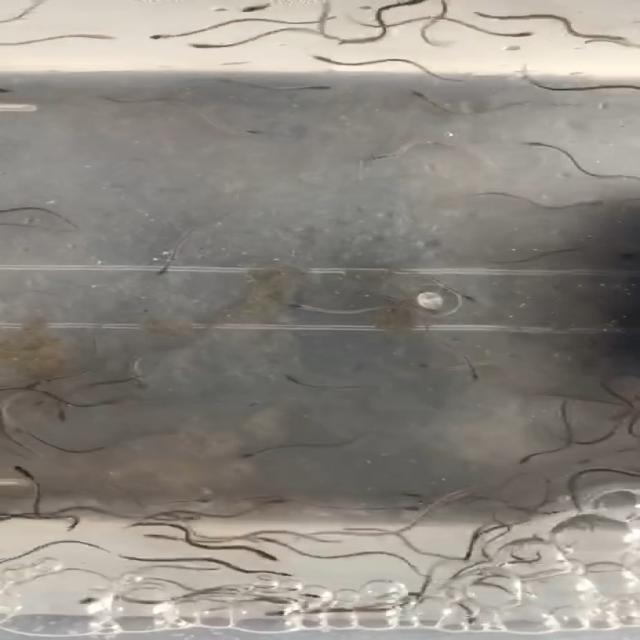active_glass_eel: (68, 27, 119, 46), (184, 38, 244, 53), (434, 484, 478, 502), (142, 26, 193, 41), (73, 590, 118, 606), (277, 585, 325, 600), (251, 593, 306, 606), (231, 2, 284, 15), (592, 192, 630, 209), (592, 29, 637, 43), (510, 448, 540, 469), (512, 139, 558, 152), (230, 449, 276, 462), (125, 373, 153, 394), (392, 488, 437, 501), (13, 466, 42, 486), (454, 606, 479, 629), (379, 502, 420, 516), (150, 259, 178, 279), (451, 290, 486, 306), (363, 152, 405, 165), (176, 494, 215, 508), (466, 364, 494, 383), (409, 88, 438, 106), (144, 532, 181, 546), (248, 548, 280, 564), (304, 54, 346, 66), (505, 28, 541, 42), (261, 565, 303, 577), (242, 532, 278, 546), (609, 248, 640, 264), (96, 394, 126, 409), (285, 298, 317, 312), (228, 127, 270, 137), (306, 84, 344, 95), (597, 408, 628, 421), (416, 362, 449, 374), (60, 516, 84, 532), (168, 512, 198, 524), (50, 407, 73, 422), (254, 498, 288, 508), (278, 369, 299, 384), (266, 607, 300, 615)
